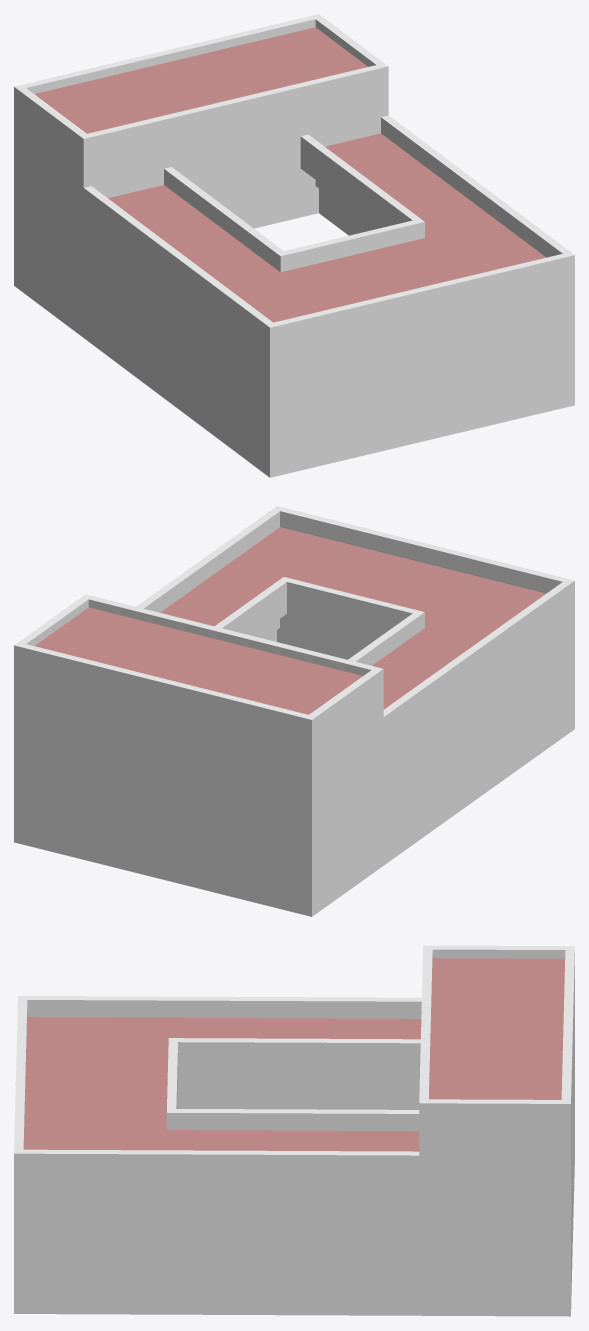
Rendered from LOD_Block_4_46.glb.
3 views of the same model, one above another, from view 1: azimuth 30°, elevation 25°; view 2: azimuth 150°, elevation 25°; view 3: azimuth 270°, elevation 25° (orthographic). The views are drawn at different scales.
Parts seen in each view (by area): view 1: mesh_CityEngineMaterial_687; view 2: mesh_CityEngineMaterial_687; view 3: mesh_CityEngineMaterial_687.
Part boxes in pixels (left/top/right/bottom): mesh_CityEngineMaterial_687: left=14, top=14, right=574, bottom=477; mesh_CityEngineMaterial_687: left=14, top=506, right=574, bottom=916; mesh_CityEngineMaterial_687: left=14, top=945, right=574, bottom=1316.
Size of the model in its own units: 19.98 by 12.35 by 29.54.
